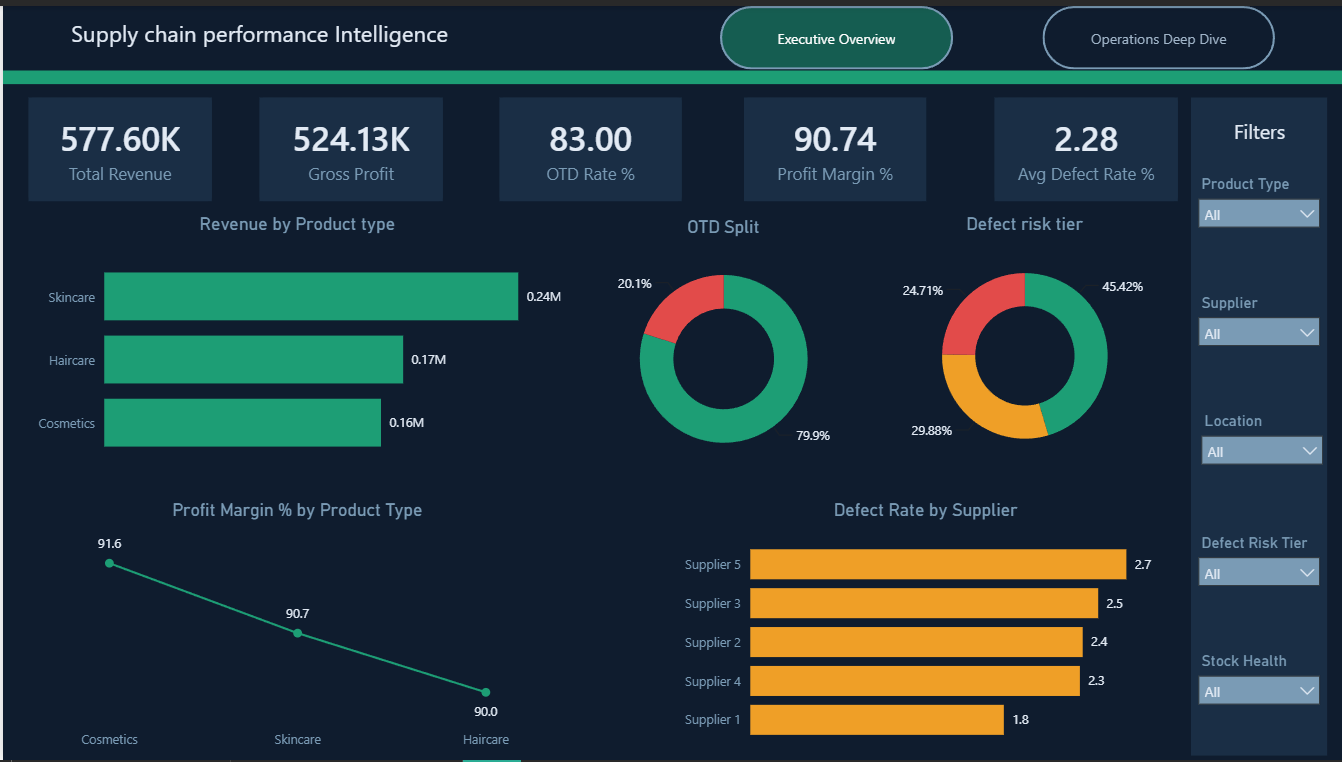

What the dashboard file says about the page in this screenshot:
{"tool":"powerbi","page":{"name":"Executive Overview","canvas":[1280,720],"ordinal":0},"visuals":[{"type":"textbox","box":[60.2,5.7,414,47.3],"z":0},{"type":"shape","box":[0,61.8,1280.1,13],"z":1000},{"type":"actionButton","title":"Executive Overview","box":[684.4,0,222.6,60.6],"z":2000},{"type":"actionButton","box":[993.3,0,222,60.6],"z":3000},{"type":"cardVisual","fields":{"Data":["Measure Table.Total Revenue"]},"box":[24.2,87.3,175.6,99.9],"z":4000},{"type":"cardVisual","fields":{"Data":["Measure Table.Gross Profit"]},"box":[245.3,87.8,175.6,99.9],"z":5000},{"type":"cardVisual","fields":{"Data":["Measure Table.Profit Margin %"]},"box":[707.1,87.8,174.1,99.9],"z":6000},{"type":"cardVisual","fields":{"Data":["Measure Table.OTD Rate %"]},"box":[473.9,87.8,174.1,99.9],"z":7000},{"type":"cardVisual","fields":{"Data":["Measure Table.Avg Defect Rate %"]},"box":[946.4,87.8,175.6,99.9],"z":8000},{"type":"clusteredBarChart","title":"Revenue by Product type","fields":{"Category":["dim_product.product_type"],"Y":["Measure Table.Total Revenue"]},"box":[24.2,197.9,513.3,254.4],"z":9000},{"type":"donutChart","title":"OTD Split","fields":{"Category":["fact_supply_chain.on_time_flag"],"Y":["Measure Table.Units Sold"]},"box":[536,199.9,304.4,252.9],"z":10000},{"type":"donutChart","title":"Defect risk tier","fields":{"Category":["fact_supply_chain.defect_risk_tier"],"Y":["Sum(fact_supply_chain.units_sold)"]},"box":[829.8,198.4,292.2,252.9],"z":11000},{"type":"lineChart","title":"Profit Margin % by Product Type","fields":{"Category":["dim_product.product_type"],"Y":["Measure Table.Profit Margin %"]},"box":[24.2,471.6,513.3,246.8],"z":12000},{"type":"clusteredBarChart","title":"Defect Rate by Supplier","fields":{"Category":["dim_supplier.supplier_name"],"Y":["Measure Table.Avg Defect Rate %"]},"box":[640.5,470.9,481.5,245.3],"z":13000},{"type":"shape","box":[1134.1,87.8,130.2,628.4],"z":14000},{"type":"slicer","fields":{"Values":["dim_product.product_type"]},"box":[1131.1,156,136.3,63.6],"z":15000},{"type":"slicer","fields":{"Values":["dim_supplier.supplier_name"]},"box":[1131.1,269.5,136.3,63.6],"z":16000},{"type":"slicer","fields":{"Values":["dim_supplier.location"]},"box":[1134.1,383.1,136,63],"z":17000},{"type":"slicer","fields":{"Values":["fact_supply_chain.defect_risk_tier"]},"box":[1131.1,498.2,136.3,63.6],"z":18000},{"type":"slicer","fields":{"Values":["fact_supply_chain.stock_health"]},"box":[1131.1,611.7,136.3,63.6],"z":19000},{"type":"textbox","box":[1155.3,101.5,87.8,36.3],"z":20000}]}

Visuals, with their boxes in screenshot pixels (x1, y1, x2, y2), scaled from the page's 1280x720 canvas onto the 1342x762 screenshot:
textbox: x1=63 y1=6 x2=497 y2=56
shape: x1=0 y1=65 x2=1341 y2=79
"Executive Overview" actionButton: x1=718 y1=0 x2=951 y2=64
actionButton: x1=1041 y1=0 x2=1274 y2=64
cardVisual - Measure Table.Total Revenue: x1=25 y1=92 x2=209 y2=198
cardVisual - Measure Table.Gross Profit: x1=257 y1=93 x2=441 y2=199
cardVisual - Measure Table.Profit Margin %: x1=741 y1=93 x2=924 y2=199
cardVisual - Measure Table.OTD Rate %: x1=497 y1=93 x2=679 y2=199
cardVisual - Measure Table.Avg Defect Rate %: x1=992 y1=93 x2=1176 y2=199
"Revenue by Product type" clusteredBarChart: x1=25 y1=209 x2=564 y2=479
"OTD Split" donutChart: x1=562 y1=212 x2=881 y2=479
"Defect risk tier" donutChart: x1=870 y1=210 x2=1176 y2=478
"Profit Margin % by Product Type" lineChart: x1=25 y1=499 x2=564 y2=760
"Defect Rate by Supplier" clusteredBarChart: x1=672 y1=498 x2=1176 y2=758
shape: x1=1189 y1=93 x2=1326 y2=758
slicer - dim_product.product_type: x1=1186 y1=165 x2=1329 y2=232
slicer - dim_supplier.supplier_name: x1=1186 y1=285 x2=1329 y2=353
slicer - dim_supplier.location: x1=1189 y1=405 x2=1332 y2=472
slicer - fact_supply_chain.defect_risk_tier: x1=1186 y1=527 x2=1329 y2=595
slicer - fact_supply_chain.stock_health: x1=1186 y1=647 x2=1329 y2=715
textbox: x1=1211 y1=107 x2=1303 y2=146
